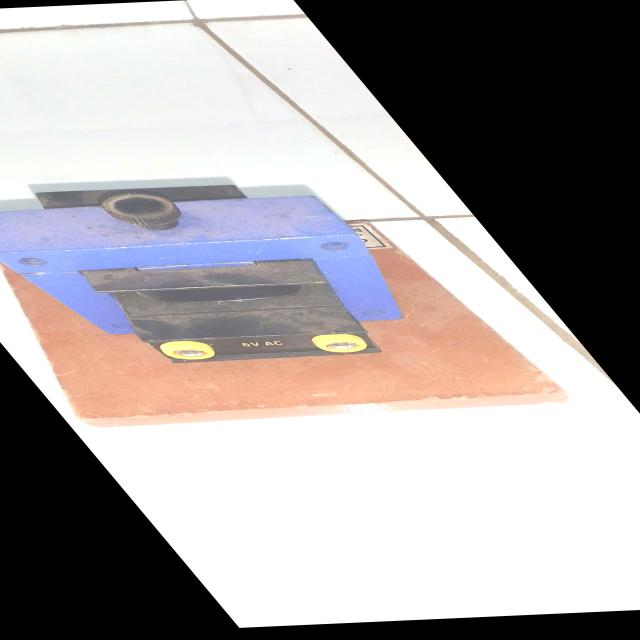Transformer Demo: (0, 164, 586, 430)
